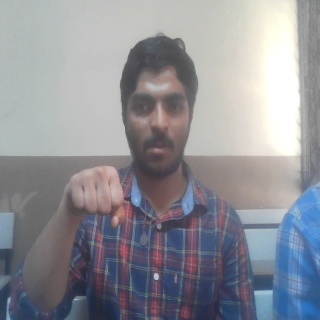Face: (121, 36, 197, 174)
Yes: (65, 164, 125, 229)
